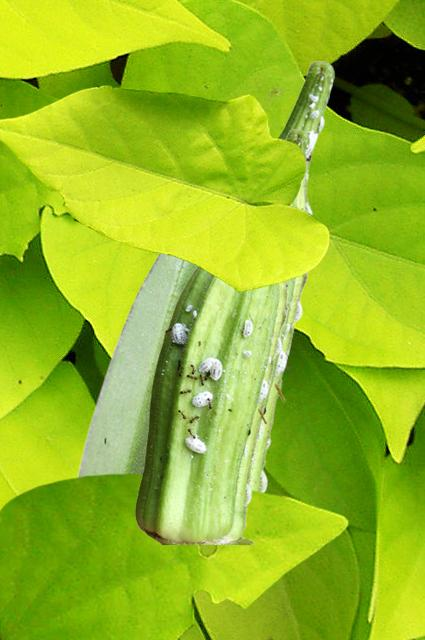okra: (135, 129, 309, 543), (249, 61, 334, 491), (74, 253, 195, 476)
